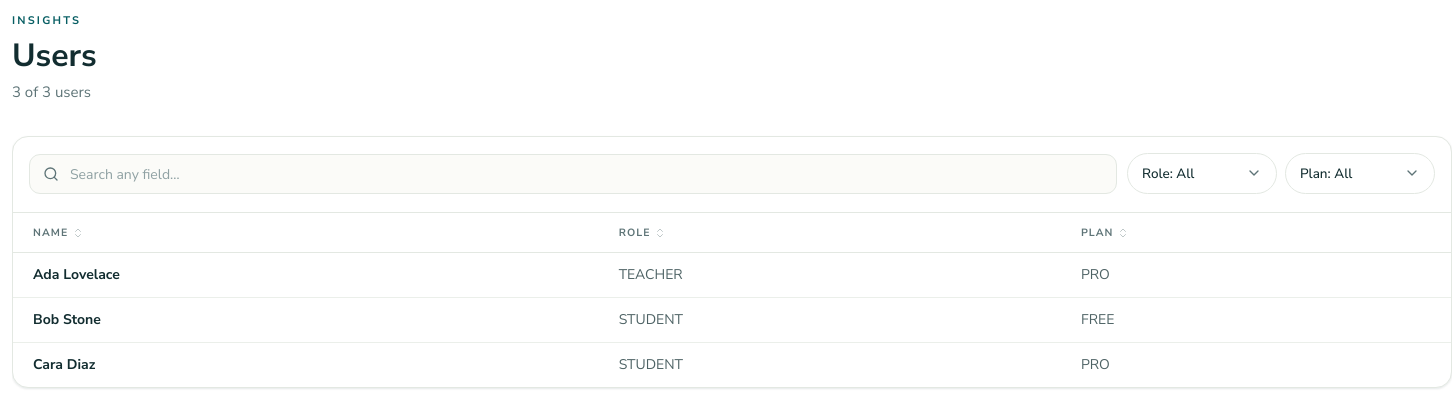
Scenario: DataTable › global search matches any column's text, case-insensitively
The width and height of the screenshot is (1452, 406).
Type "lovelace" into the field with placeholder "Search any field…" at (573, 174), box top-left (29, 154), bottom-right (1117, 194)
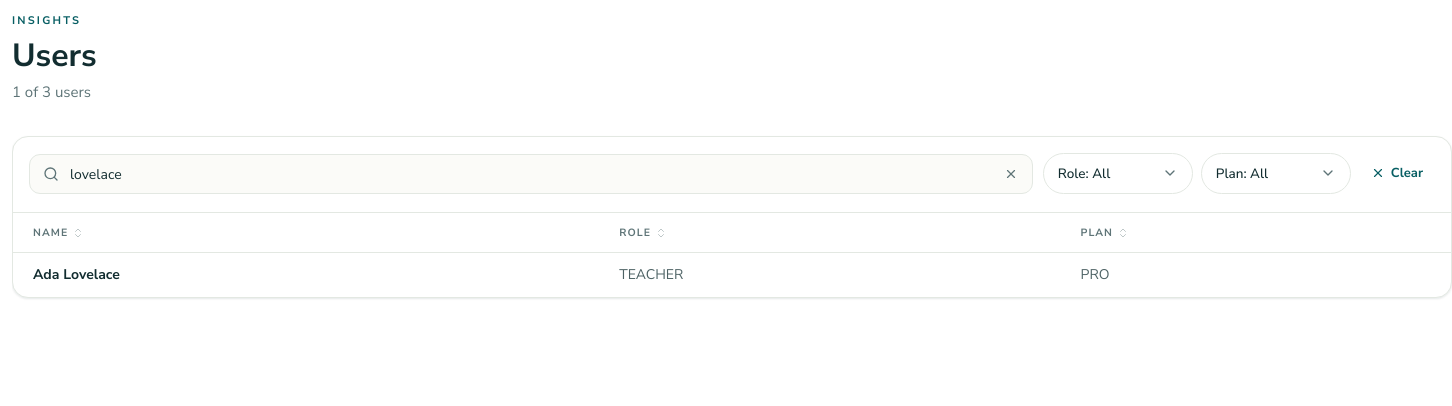
expect the text "Ada Lovelace" is shown: met, box top-left (13, 253), bottom-right (603, 297)
expect the text "Bob Stone" is gone: met
expect the text "1 of 3 users" is shown: met, box top-left (12, 82), bottom-right (91, 102)
